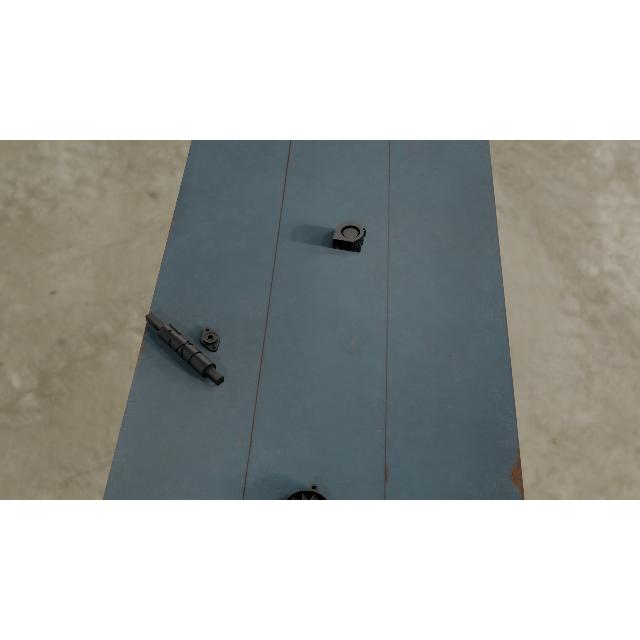Pieza1: (142, 306, 228, 392)
Pieza2: (198, 324, 225, 354)
Pieza3: (332, 220, 368, 253)
Pieza4: (272, 482, 341, 500)
